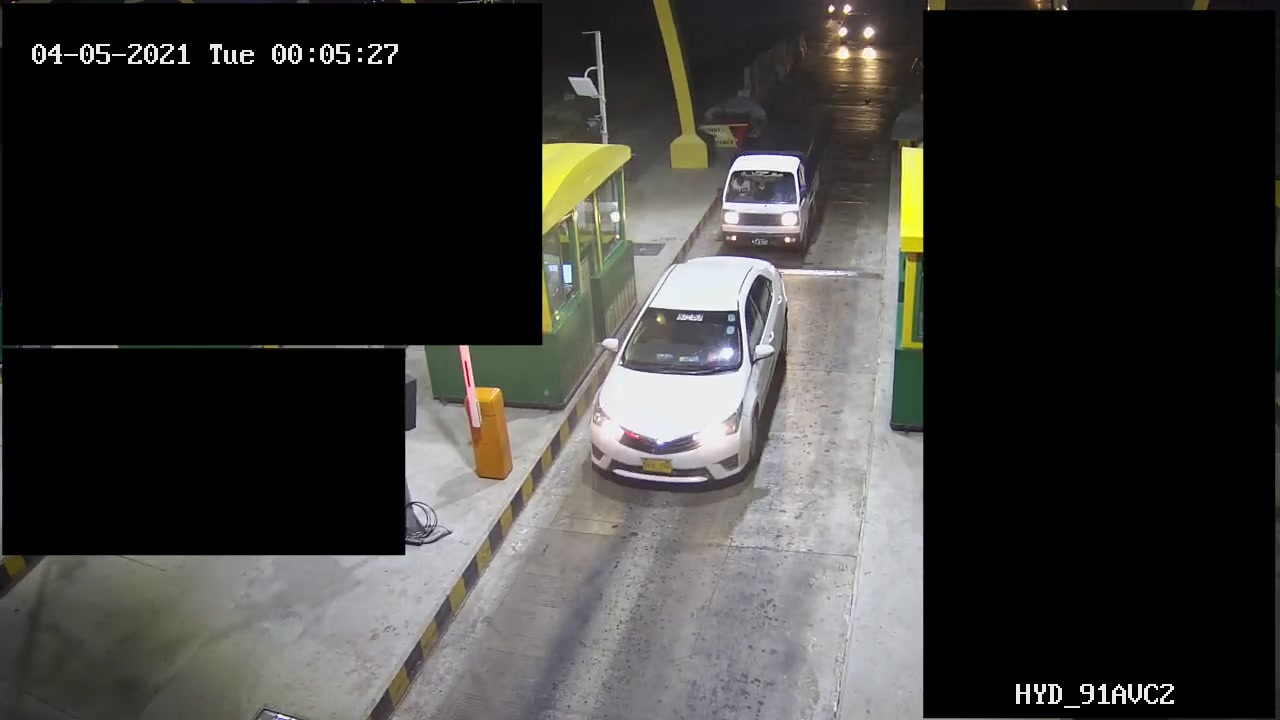F1: (576, 254, 822, 509), (708, 129, 832, 253)
